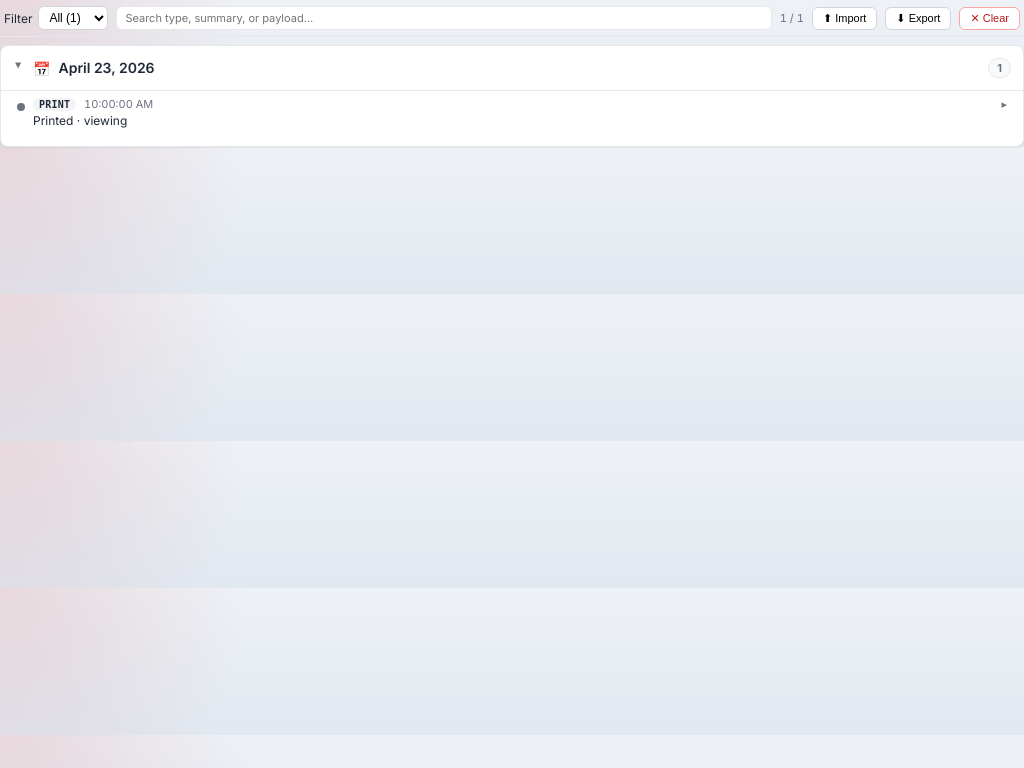
Test case: <AuditLogPanel /> › expanding a row reveals the raw JSON
Click the button with class "audit-list__head--btn".
click(55, 104)  # box [33, 97, 1007, 111]
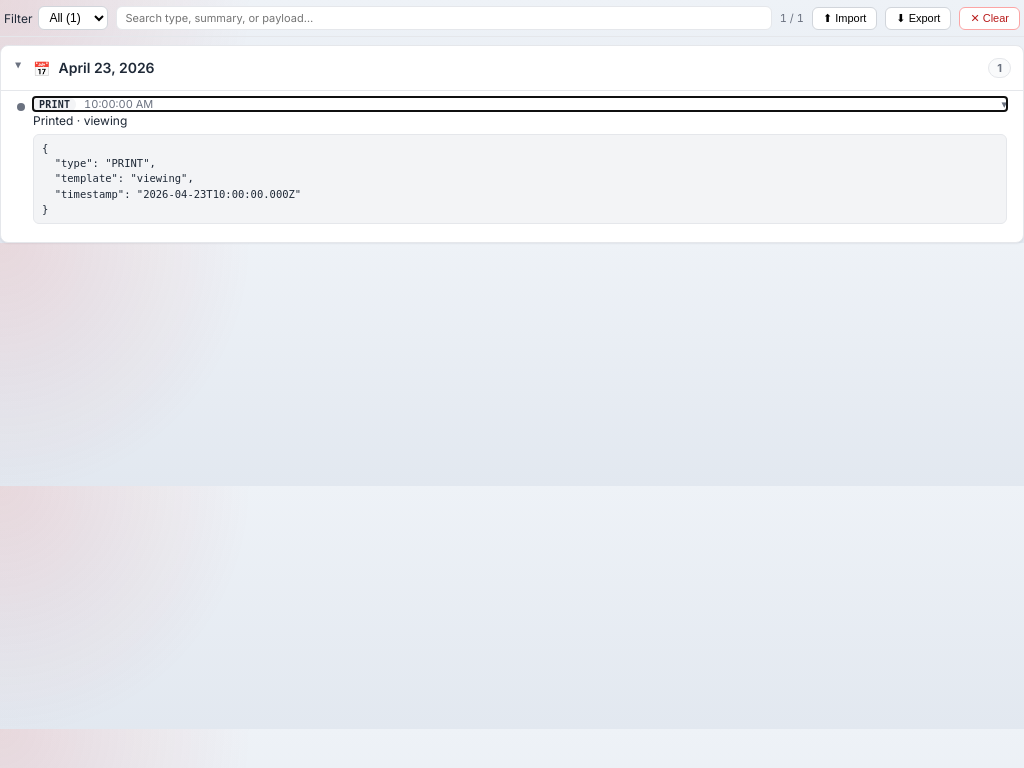
Now the button with class "audit-list__head--btn" is expanded, box [33, 97, 1007, 111]
Now the text "\"type\": \"PRINT\"" is shown, box [42, 142, 301, 215]
